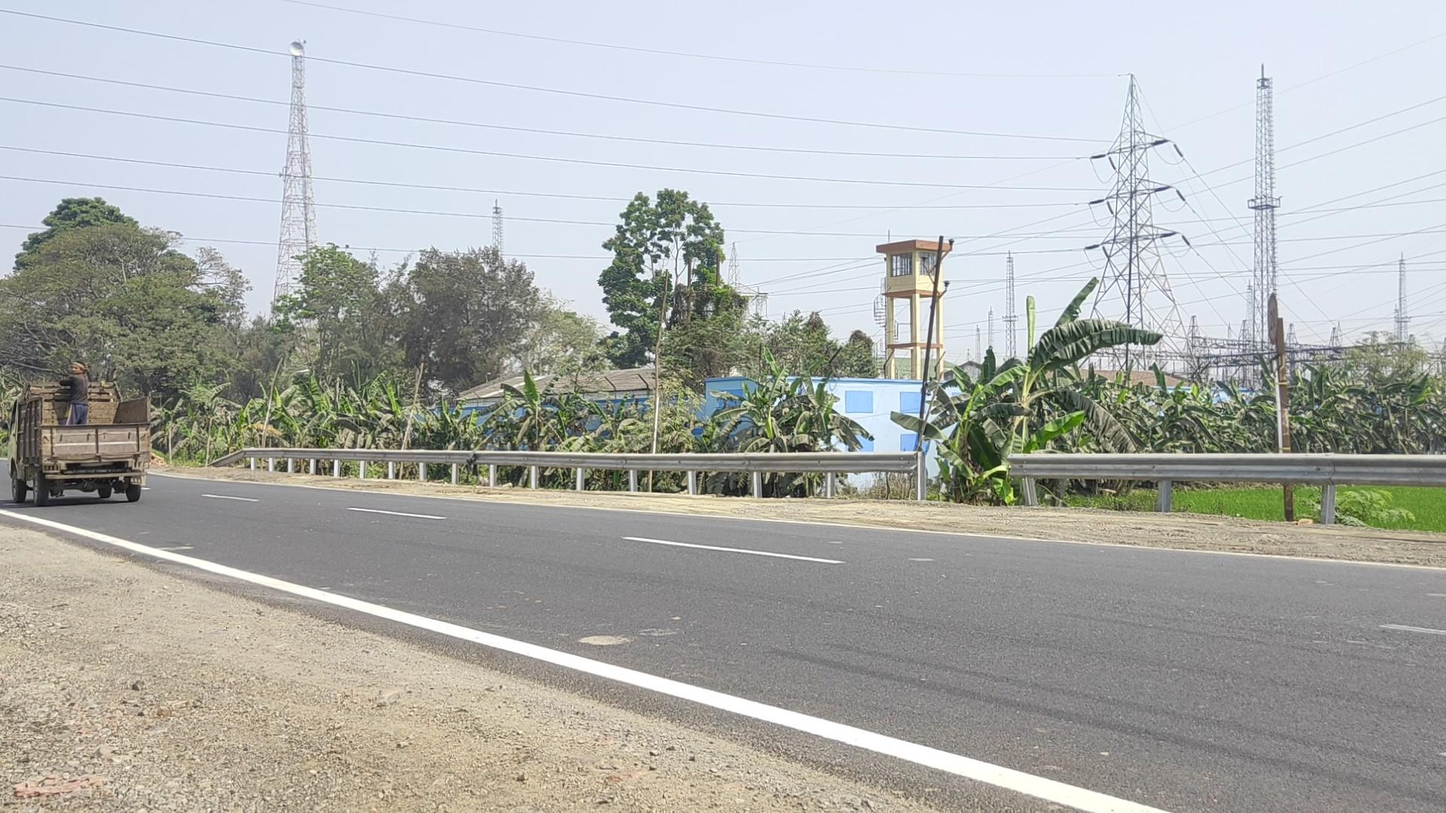van: (8, 361, 152, 507)
